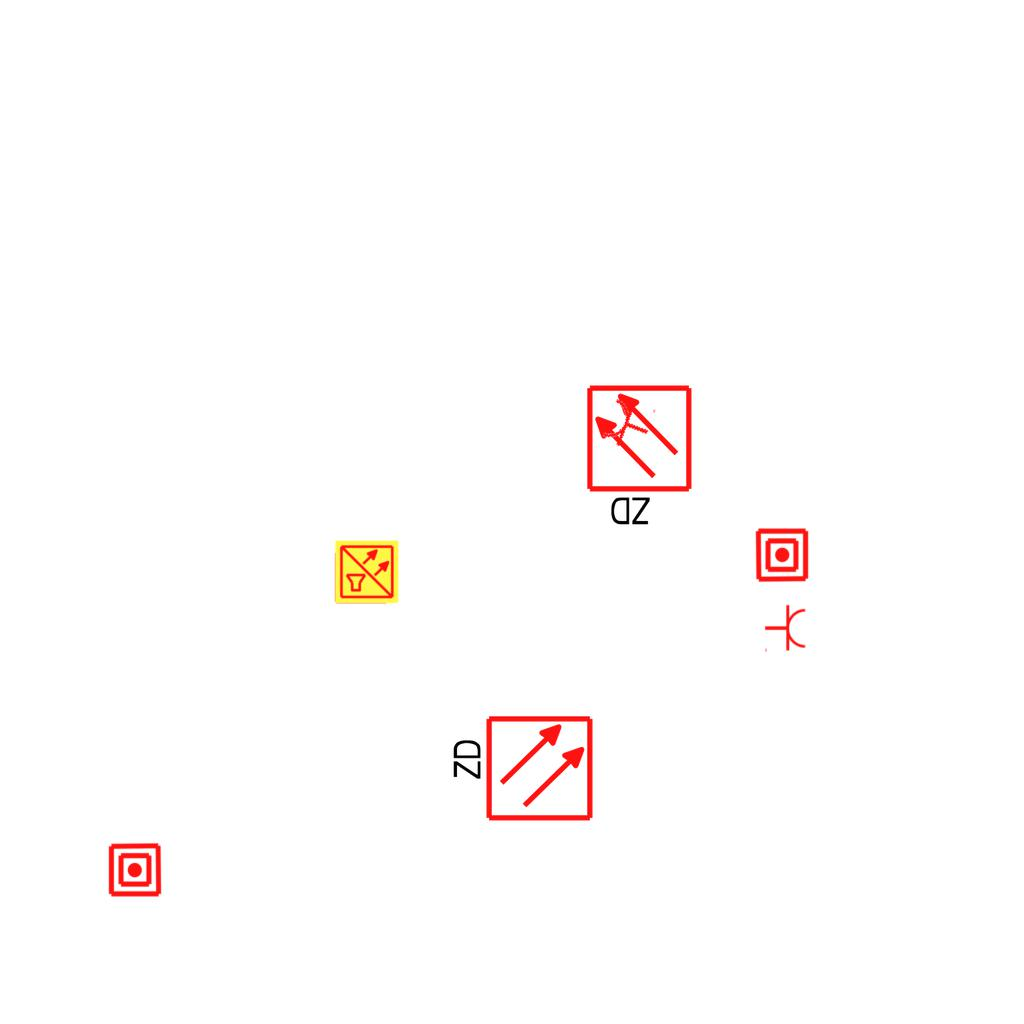NAM-Nichtautomatischer_Melder: (106, 841, 164, 899), (754, 527, 810, 583)
OKW_Multisensormelder_(Kombination_optischer_Rauch-Kahlenmonoxid_Waerme-Melder): (334, 539, 400, 605)
Schukosteckdose_einfach: (599, 392, 658, 456), (764, 604, 807, 654)
ZD_Melder_in_Zwischendecke_mit_Revisionsoeffnung_mind_40_x_40_cm: (446, 713, 595, 827), (584, 383, 698, 532)
